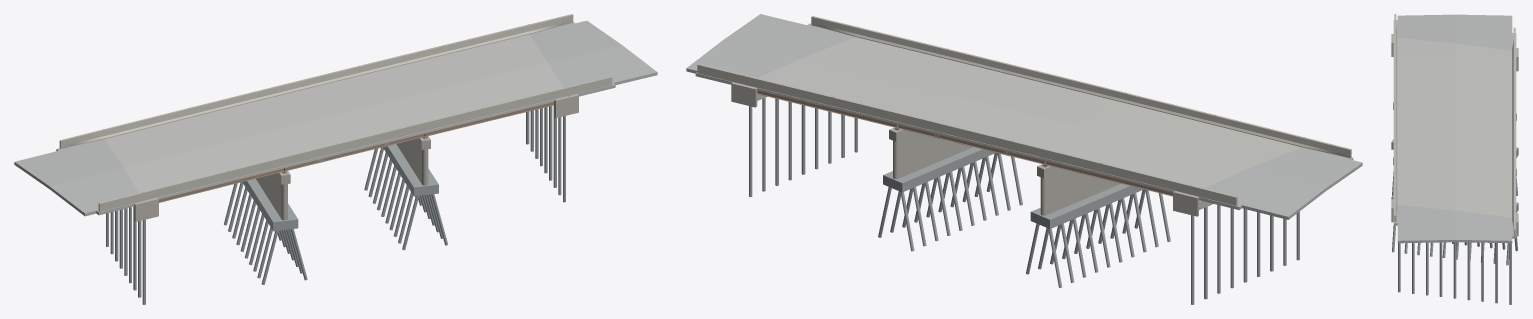
3 views of the same model, side by side, from view 1: azimuth 30°, elevation 25°; view 2: azimuth 150°, elevation 25°; view 3: azimuth 270°, elevation 25° (orthographic). The views are drawn at different scales.
Parts seen in each view (by area): view 1: deck, approach_west, approach_east, rail_1, rail_-1, footing_3, footing_2, pier_3_wall, pier_2_wall, beam_7_segment_3, beam_7_segment_1, wing_4_-1 (+5 smaller); view 2: deck, approach_west, approach_east, rail_-1, rail_1, pier_2_wall, pier_3_wall, footing_2, footing_3, beam_1_segment_3, beam_1_segment_1, wing_4_1 (+5 smaller); view 3: deck, approach_east, approach_west, rail_-1, rail_1, endpile_4_6, endpile_4_5, endpile_4_4, endpile_4_9, endpile_4_8, endpile_4_7, endpile_4_3 (+2 smaller).
Boxes of the visible parts, x1,y1,x2,y2 form: deck: (105, 34, 567, 200); approach_west: (14, 139, 138, 216); approach_east: (529, 20, 657, 87); rail_1: (104, 24, 530, 138); rail_-1: (143, 87, 568, 200); footing_3: (383, 144, 438, 196); footing_2: (242, 179, 298, 231); pier_3_wall: (396, 139, 428, 185); pier_2_wall: (256, 174, 287, 220); beam_7_segment_3: (387, 102, 554, 145); beam_7_segment_1: (159, 160, 320, 202); wing_4_-1: (554, 94, 578, 117); deck: (744, 37, 1301, 194); approach_west: (1204, 147, 1362, 219); approach_east: (686, 14, 854, 77); rail_-1: (856, 27, 1304, 147); rail_1: (743, 75, 1190, 194); pier_2_wall: (1040, 170, 1120, 215); pier_3_wall: (893, 133, 972, 178); footing_2: (1030, 183, 1143, 228); footing_3: (883, 147, 995, 192); beam_1_segment_3: (757, 90, 936, 137); beam_1_segment_1: (1006, 152, 1172, 196); wing_4_1: (731, 82, 757, 107); deck: (1393, 38, 1516, 217); approach_east: (1397, 205, 1512, 243); approach_west: (1397, 14, 1512, 50); rail_-1: (1394, 31, 1397, 203); rail_1: (1512, 44, 1515, 216); endpile_4_6: (1467, 242, 1470, 300); endpile_4_5: (1453, 242, 1456, 298); endpile_4_4: (1439, 242, 1442, 296); endpile_4_9: (1509, 243, 1511, 304); endpile_4_8: (1495, 243, 1497, 303); endpile_4_7: (1481, 242, 1483, 301); endpile_4_3: (1426, 242, 1428, 295).
Size of the model in its own units: 62.1 by 13.24 by 14.76.
